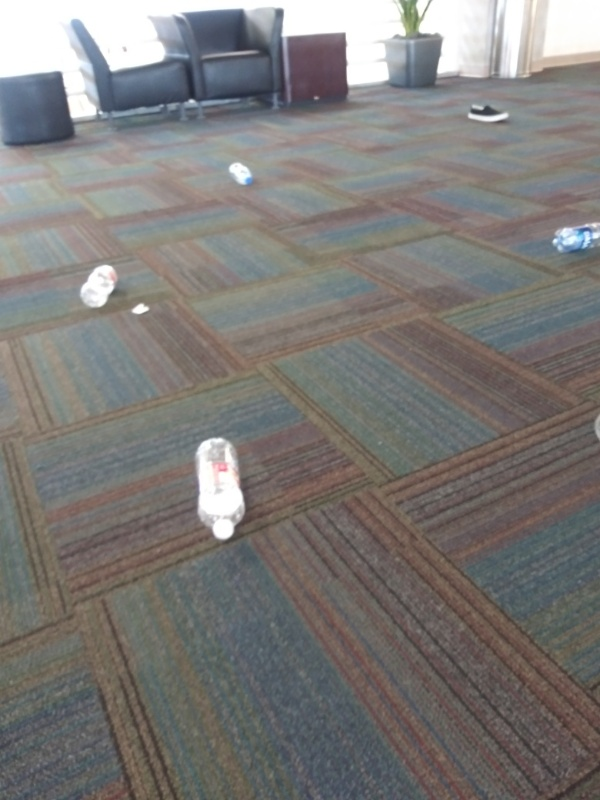bottle: (193, 435, 248, 543), (76, 261, 120, 313), (549, 220, 600, 256), (228, 156, 261, 189)
